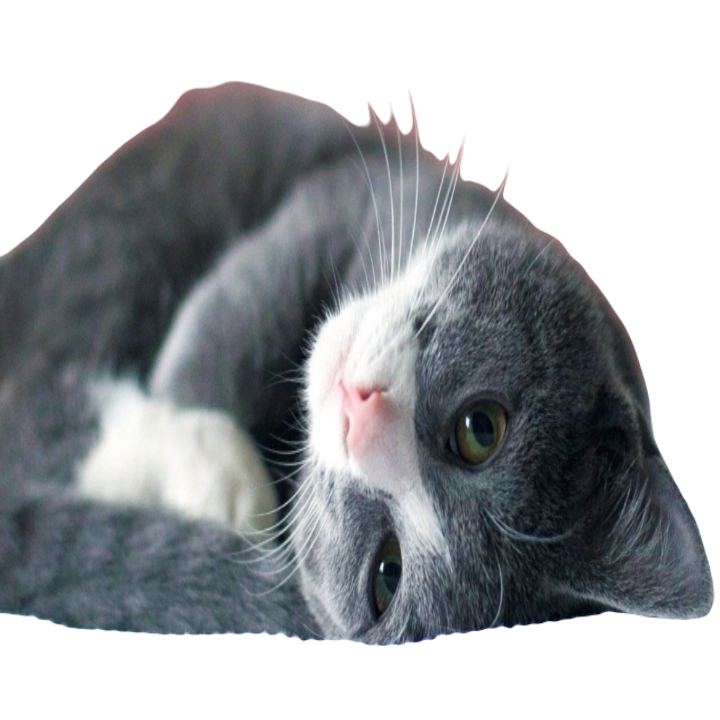Cat: (0, 79, 717, 654)
